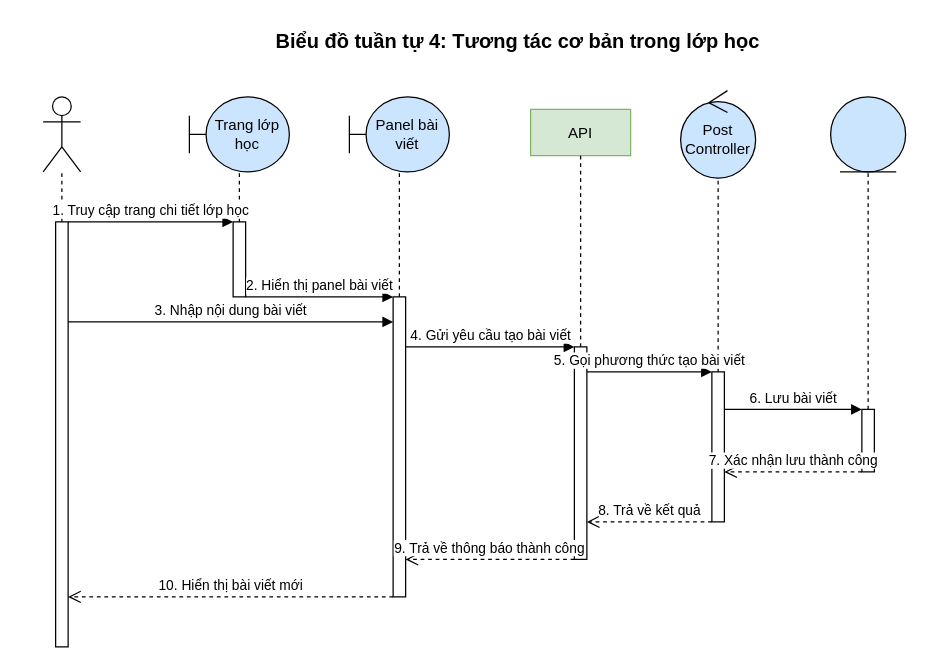
Image size: 928x669. Some labels were removed from this diagram. The box of each missing label's shape, as (x1, y1, x2, y2) in pixels:
Người dùng: (42, 96, 81, 172)
Post: (829, 96, 906, 172)
